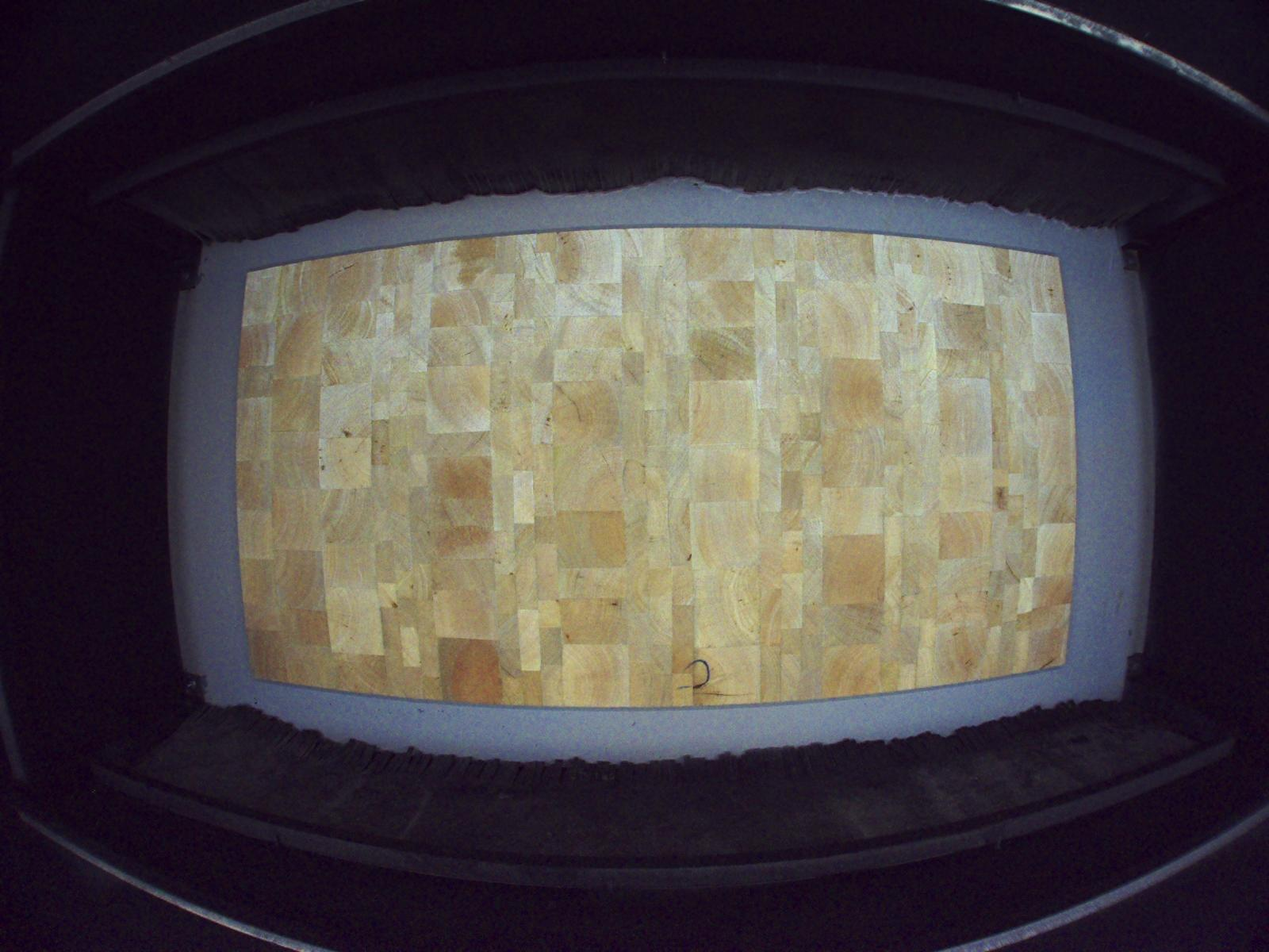nudillo: (692, 672, 729, 691)
